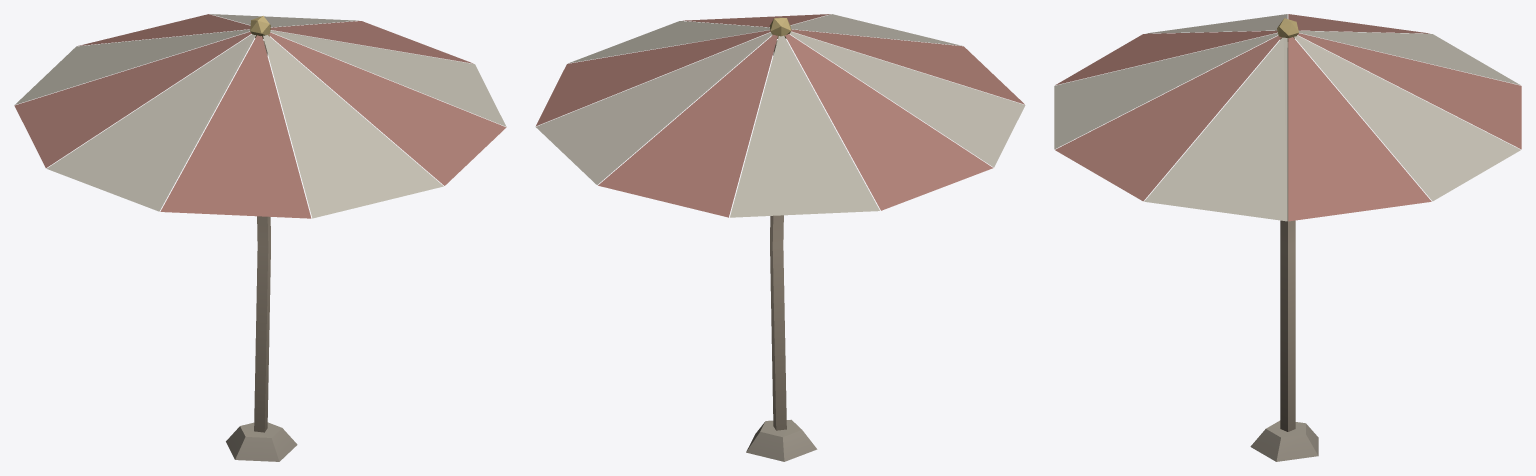
File: parasol.lod1.glb
3 views of the same model, side by side, from view 1: azimuth 30°, elevation 25°; view 2: azimuth 150°, elevation 25°; view 3: azimuth 270°, elevation 25° (orthographic).
Size of the model in its own units: 2.21 by 2.12 by 2.11.
